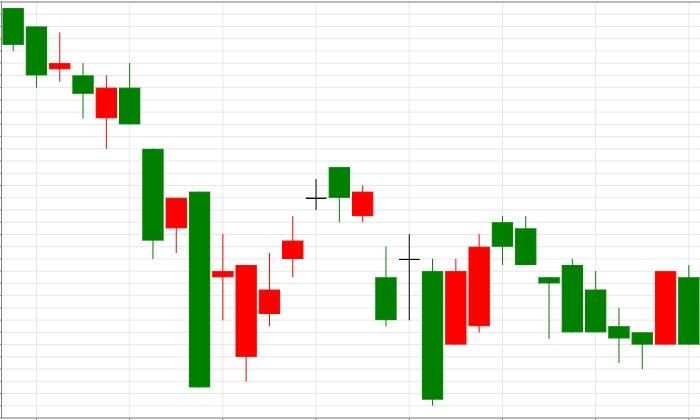hammer_rise: (491, 215, 654, 369)
